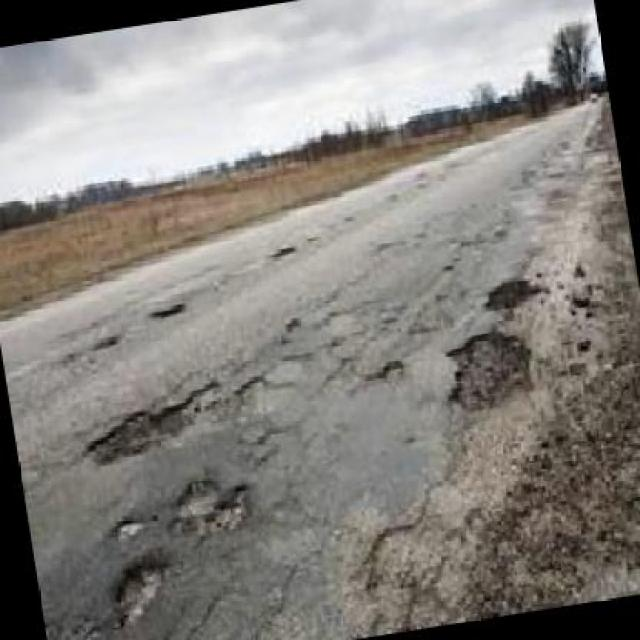pothole1: (74, 372, 226, 466), (440, 321, 543, 414), (163, 468, 254, 542), (102, 550, 178, 632), (478, 267, 547, 313), (110, 512, 150, 539)
